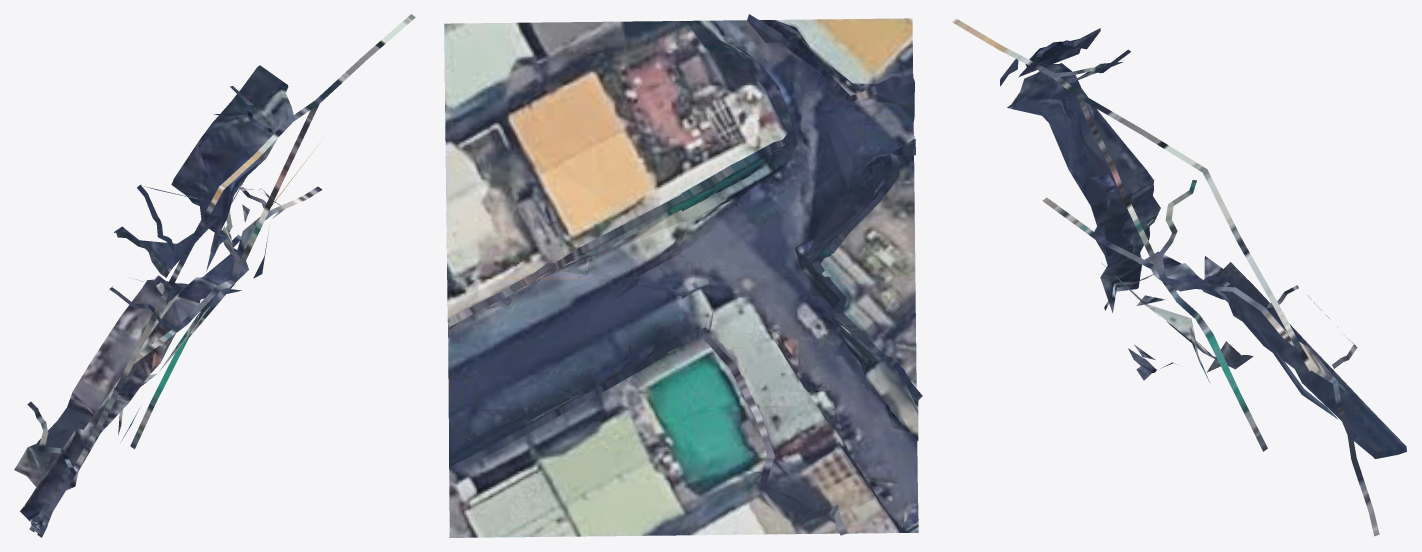
The picture shows the model from 3 angles, left to right: view 1: azimuth 30°, elevation 25°; view 2: azimuth 150°, elevation 25°; view 3: azimuth 270°, elevation 25°; orthographic projection. The views are drawn at different scales.
Bounding box in the file's own units: 38.34 × 37.51 × 35.05.
Materials: 1 (1 with a texture image).
